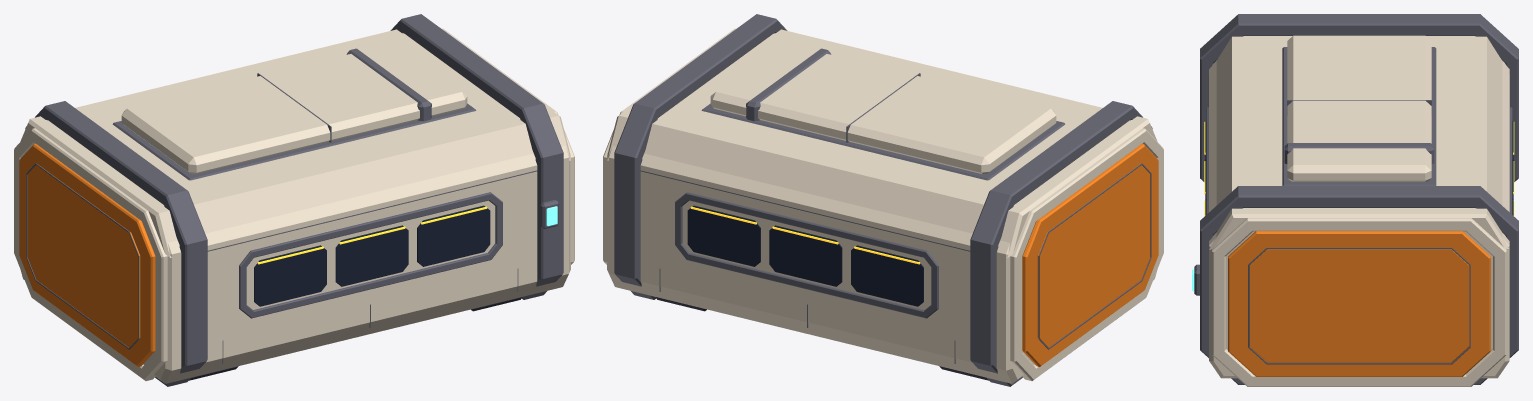
The model's file is asset.glb.
3 renders of one model, left to right at view 1: azimuth 30°, elevation 25°; view 2: azimuth 150°, elevation 25°; view 3: azimuth 270°, elevation 25°, orthographic.
Parts seen in each view (by area): view 1: roof_smooth-structure, Chamfered pressure hull, hab-module_smooth-structure_structure-gray, hab-module_accent-paint, hab-module_smooth-structure, roof_smooth-structure_structure-gray, Window navy pane 1 1, Window navy pane 1 2, Window navy pane 1 0; view 2: roof_smooth-structure, Chamfered pressure hull, hab-module_smooth-structure_structure-gray, hab-module_accent-paint, hab-module_smooth-structure, roof_smooth-structure_structure-gray, Window navy pane -1 1, Window navy pane -1 2, Window navy pane -1 0; view 3: roof_smooth-structure, hab-module_accent-paint, hab-module_smooth-structure_structure-gray, hab-module_smooth-structure, Chamfered pressure hull, roof_smooth-structure_structure-gray.
Boxes of the visible parts, x1,y1,x2,y2 form: roof_smooth-structure: (20, 29, 570, 257); Chamfered pressure hull: (21, 131, 570, 383); hab-module_smooth-structure_structure-gray: (25, 14, 563, 386); hab-module_accent-paint: (19, 144, 155, 366); hab-module_smooth-structure: (14, 28, 574, 380); roof_smooth-structure_structure-gray: (112, 48, 476, 180); Window navy pane 1 1: (335, 225, 408, 286); Window navy pane 1 2: (417, 205, 490, 266); Window navy pane 1 0: (254, 245, 326, 306); roof_smooth-structure: (607, 29, 1157, 257); Chamfered pressure hull: (607, 131, 1156, 383); hab-module_smooth-structure_structure-gray: (614, 14, 1152, 386); hab-module_accent-paint: (1022, 144, 1158, 366); hab-module_smooth-structure: (603, 28, 1163, 380); roof_smooth-structure_structure-gray: (701, 48, 1065, 180); Window navy pane -1 1: (769, 225, 842, 286); Window navy pane -1 2: (687, 205, 760, 266); Window navy pane -1 0: (851, 245, 923, 306); roof_smooth-structure: (1209, 35, 1509, 249); hab-module_accent-paint: (1228, 231, 1490, 376); hab-module_smooth-structure_structure-gray: (1200, 14, 1518, 384); hab-module_smooth-structure: (1212, 218, 1506, 386); Chamfered pressure hull: (1209, 60, 1509, 378); roof_smooth-structure_structure-gray: (1282, 47, 1436, 185).
Size of the model in its own units: 8.06 by 3.59 by 5.43.
